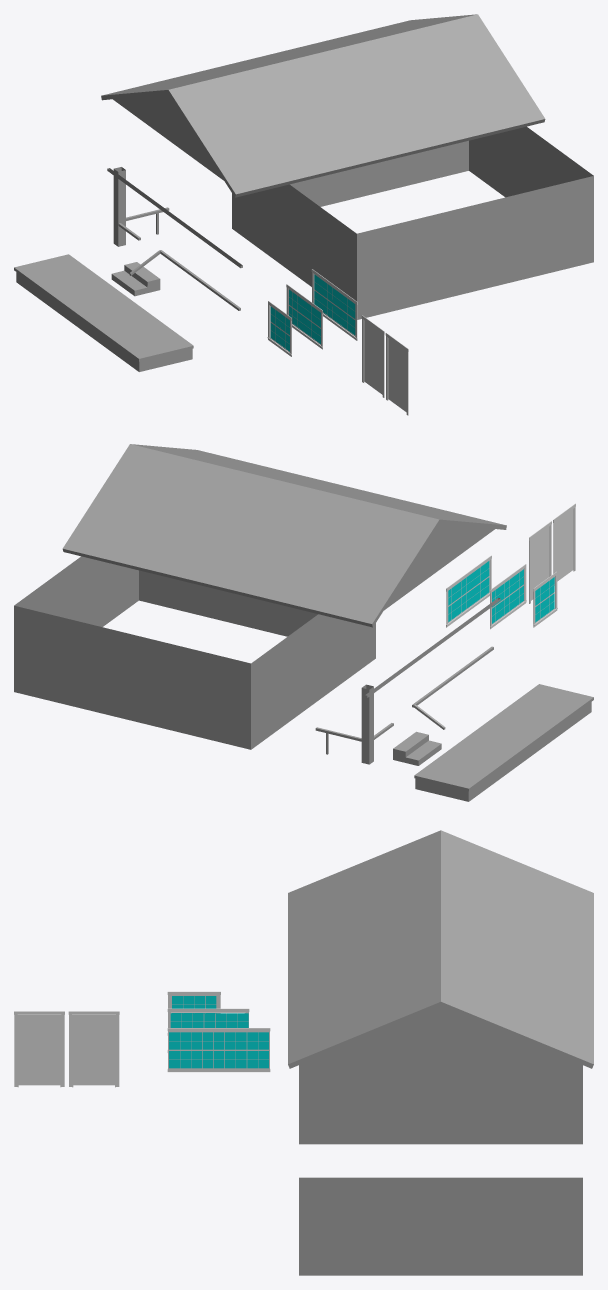
Rendered from House 2.fbx.
3 renders of one model, top to bottom at view 1: azimuth 30°, elevation 25°; view 2: azimuth 150°, elevation 25°; view 3: azimuth 270°, elevation 25°, orthographic. The views are drawn at different scales.
Visible parts, largest first — view 1: pCube46, polySurface2, pCube3, pCube66, pCube71, pCube70, House3_pCube2, pCube62, pCube12, pCube44, pCube57, pCube68; view 2: pCube46, polySurface2, pCube3, pCube66, pCube71, House3_pCube2, pCube70, pCube62, pCube12, pCube44, pCube57, pCube68 (+1 smaller); view 3: pCube46, polySurface2, pCube66, pCube71, pCube70, pCube62, pCube68, pCube73, pCube74, pCube57.
Part boxes in pixels (x1=…): pCube46: x1=101, y1=14, x2=545, y2=197; polySurface2: x1=232, y1=126, x2=593, y2=319; pCube3: x1=14, y1=254, x2=193, y2=371; pCube66: x1=314, y1=274, x2=355, y2=335; pCube71: x1=388, y1=338, x2=406, y2=412; pCube70: x1=364, y1=320, x2=382, y2=394; House3_pCube2: x1=111, y1=262, x2=160, y2=296; pCube62: x1=289, y1=289, x2=320, y2=343; pCube12: x1=113, y1=167, x2=125, y2=246; pCube44: x1=107, y1=168, x2=242, y2=268; pCube57: x1=270, y1=306, x2=289, y2=351; pCube68: x1=311, y1=269, x2=357, y2=340; pCube46: x1=62, y1=444, x2=506, y2=627; polySurface2: x1=14, y1=556, x2=375, y2=749; pCube3: x1=414, y1=684, x2=593, y2=801; pCube66: x1=448, y1=561, x2=489, y2=621; pCube71: x1=555, y1=509, x2=573, y2=581; House3_pCube2: x1=393, y1=731, x2=441, y2=765; pCube70: x1=531, y1=527, x2=549, y2=600; pCube62: x1=492, y1=569, x2=523, y2=623; pCube12: x1=361, y1=684, x2=373, y2=764; pCube44: x1=365, y1=598, x2=500, y2=697; pCube57: x1=535, y1=577, x2=554, y2=622; pCube68: x1=446, y1=555, x2=491, y2=627; pCube46: x1=288, y1=830, x2=593, y2=1068; polySurface2: x1=299, y1=1059, x2=582, y2=1275; pCube66: x1=169, y1=1032, x2=269, y2=1068; pCube71: x1=17, y1=1015, x2=61, y2=1085; pCube70: x1=71, y1=1015, x2=114, y2=1085; pCube62: x1=170, y1=1013, x2=248, y2=1027; pCube68: x1=167, y1=1028, x2=270, y2=1072; pCube73: x1=14, y1=1011, x2=64, y2=1087; pCube74: x1=68, y1=1011, x2=119, y2=1087; pCube57: x1=172, y1=996, x2=216, y2=1013.
Size of the model in its own units: 50.82 by 23 by 49.43.
